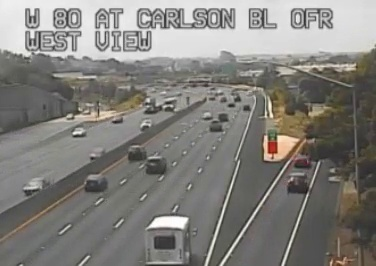bus: (146, 216, 192, 266)
car: (287, 173, 307, 193), (85, 175, 107, 191), (145, 157, 165, 173), (128, 145, 146, 160)
